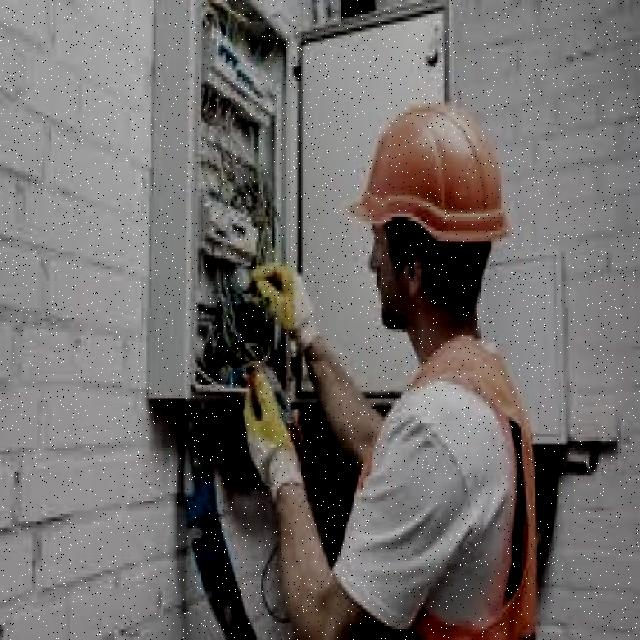Gloves: (244, 363, 302, 492), (252, 259, 318, 347)
Helmet: (358, 99, 510, 247)
Mask: (377, 346, 552, 640)
